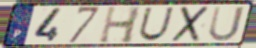4: (32, 6, 64, 44)
7: (67, 5, 103, 44)
H: (97, 4, 144, 44)
U: (206, 5, 246, 43), (137, 6, 176, 42)
X: (169, 5, 212, 43)
